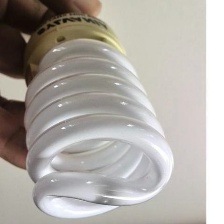light_bulb: (19, 7, 175, 220)
